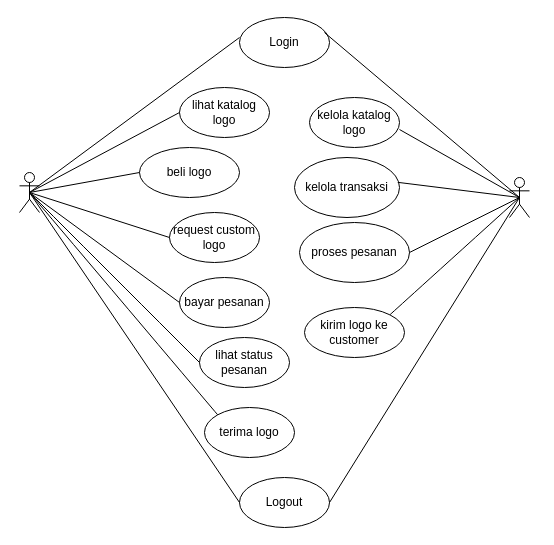
The diagram is 554 pixels wide and 545 high, and some of its shapes have lost their labels. The box of each missing label's shape, as (x1, y1, x2, y2) in pixels:
Admin: (508, 176, 530, 218)
User: (18, 172, 40, 212)
